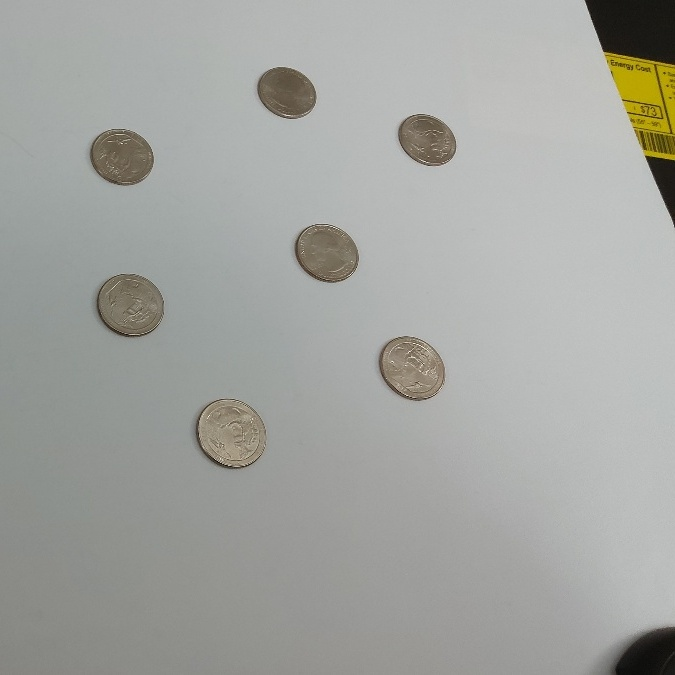coin_quarter: (80, 121, 158, 191), (88, 271, 166, 341), (290, 215, 367, 285), (370, 332, 447, 402), (193, 395, 271, 464), (389, 103, 467, 172), (253, 57, 320, 121)
